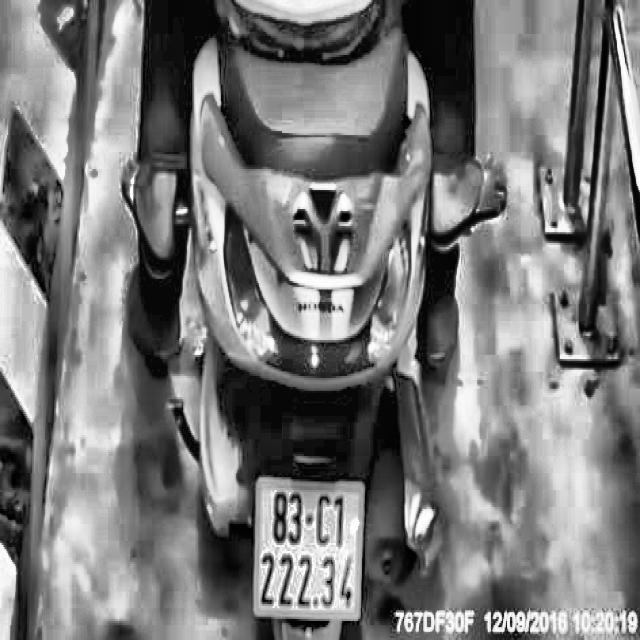plate: (247, 464, 370, 628)
